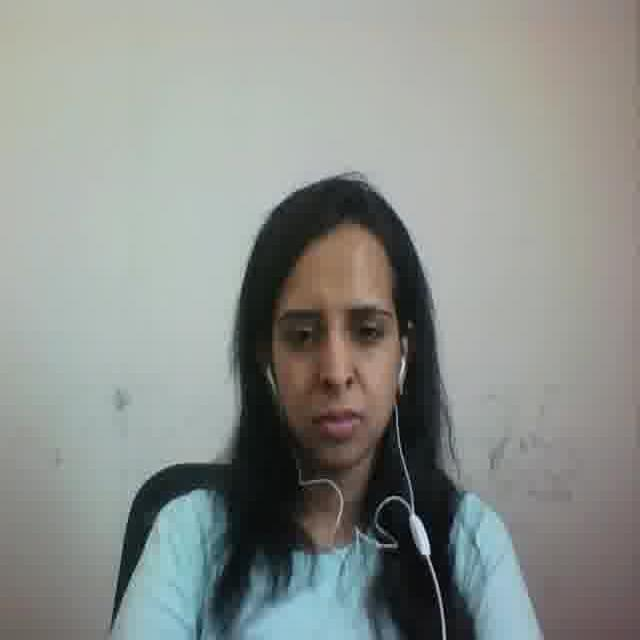Frustration: (266, 245, 396, 468)
